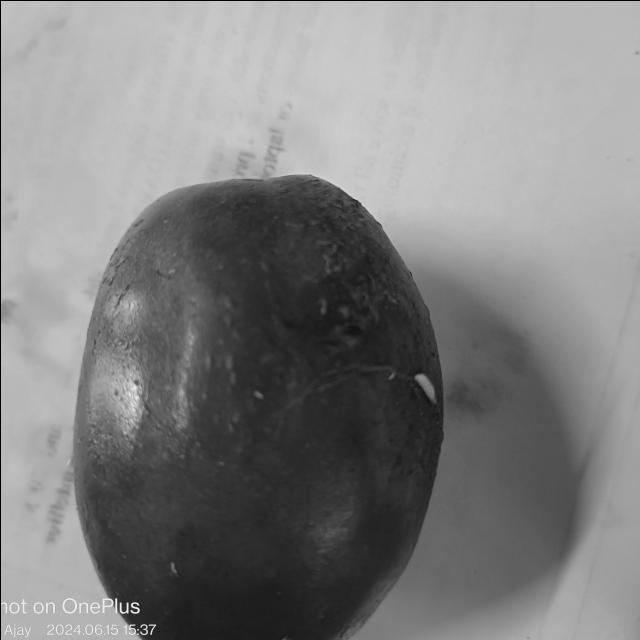Botrytis: (323, 290, 368, 344)
